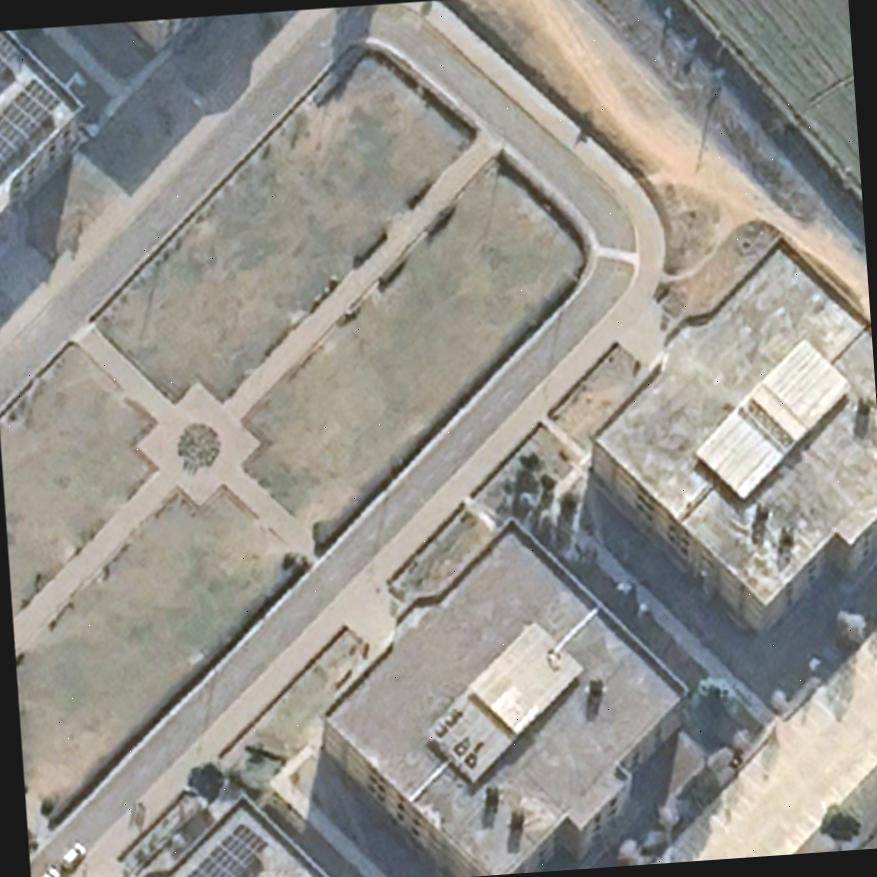Solarpanel: (0, 71, 60, 172), (181, 818, 271, 877), (0, 41, 16, 73)
